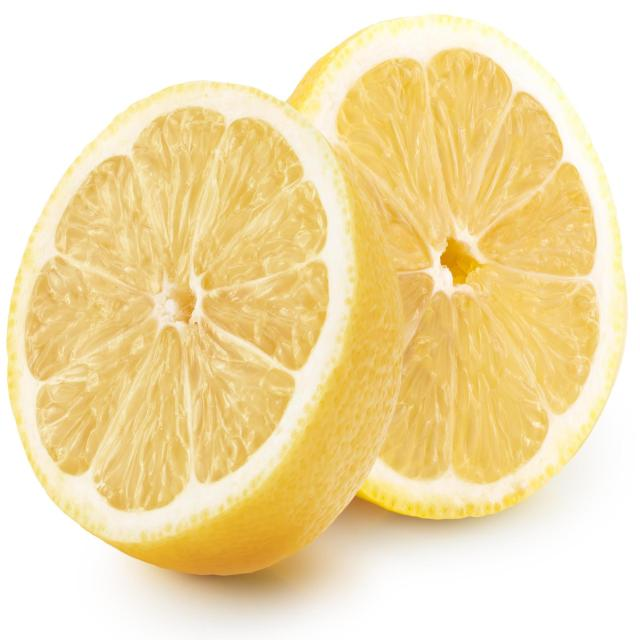lemon: (1, 74, 416, 580), (244, 4, 633, 528)
